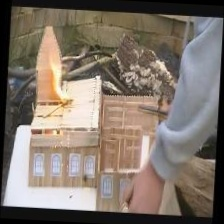fire: (42, 51, 74, 111)
